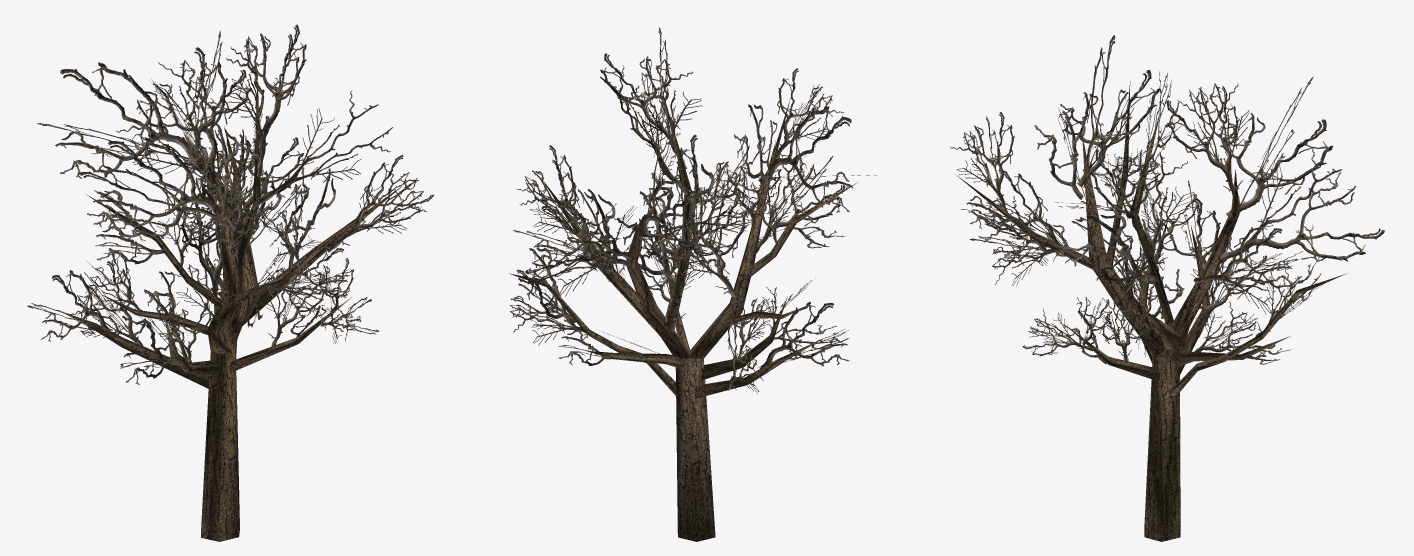
The model's file is Vegetation_Deadtree06_lod1.glb.
3 views of the same model, side by side, from view 1: azimuth 30°, elevation 25°; view 2: azimuth 150°, elevation 25°; view 3: azimuth 270°, elevation 25° (orthographic). The views are drawn at different scales.
Parts seen in each view (by area): view 1: xiutz_deadtree06_lod1; view 2: xiutz_deadtree06_lod1; view 3: xiutz_deadtree06_lod1.
Boxes of the visible parts, left/top/right/bottom form: xiutz_deadtree06_lod1: left=27, top=24, right=433, bottom=541; xiutz_deadtree06_lod1: left=509, top=27, right=877, bottom=541; xiutz_deadtree06_lod1: left=950, top=35, right=1384, bottom=541.
Bounding box in the file's own units: 20.18 × 24.5 × 20.49.
Materials: 1 (1 with a texture image).
